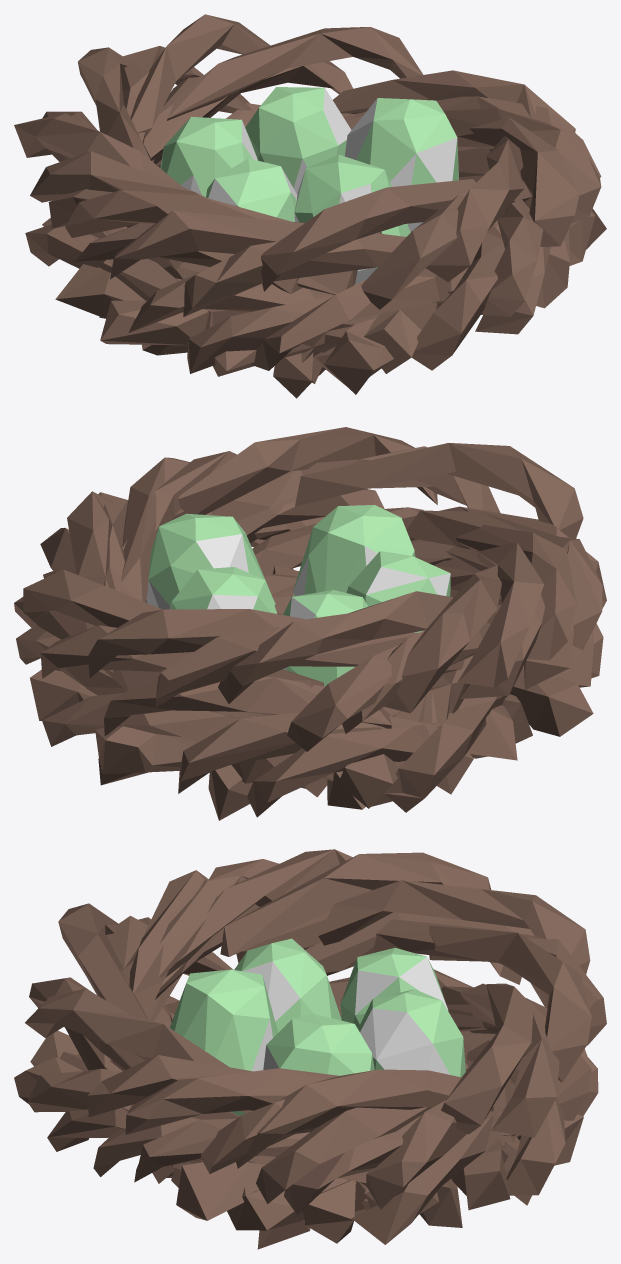
File: Nest_01.fbx
3 views of the same model, one above another, from view 1: azimuth 30°, elevation 25°; view 2: azimuth 150°, elevation 25°; view 3: azimuth 270°, elevation 25° (orthographic). The views are drawn at different scales.
Visible parts, largest first — view 1: Nest_01_LOD0; view 2: Nest_01_LOD0; view 3: Nest_01_LOD0.
Part boxes in pixels (<box>): Nest_01_LOD0: <box>14,14,606,398</box>; Nest_01_LOD0: <box>14,427,606,820</box>; Nest_01_LOD0: <box>14,849,606,1249</box>.
Size of what is drawn, in the model's own units: 49.02 by 20.34 by 48.69.
